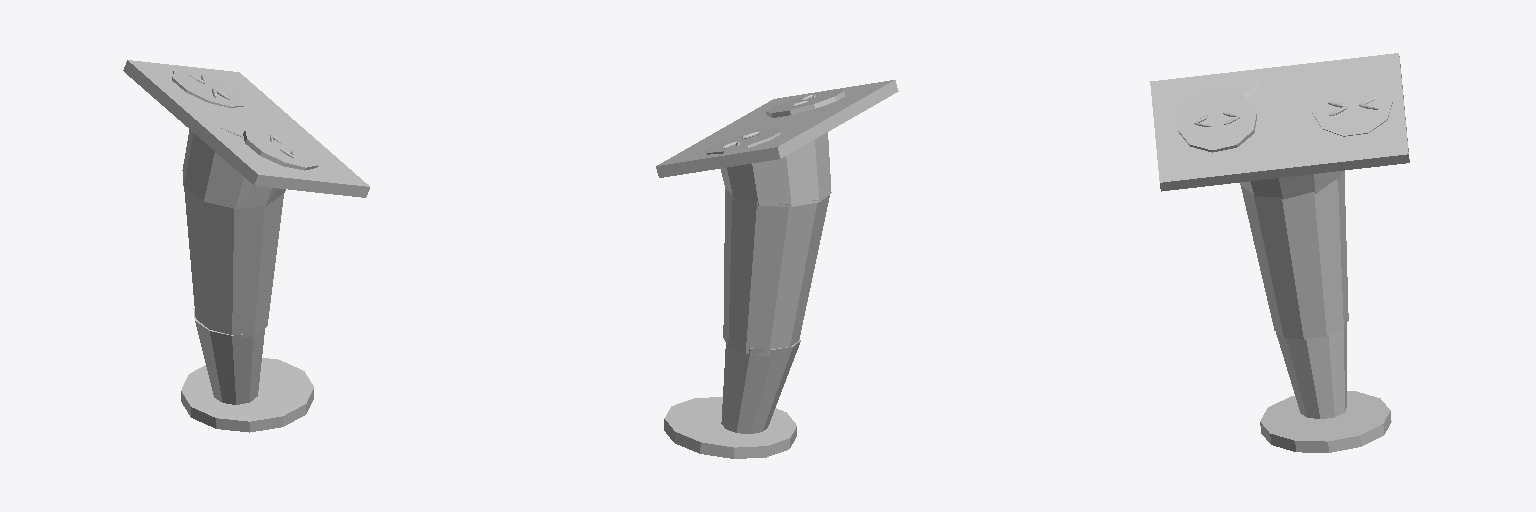
File: Buttons.obj
3 renders of one model, left to right at view 1: azimuth 30°, elevation 25°; view 2: azimuth 150°, elevation 25°; view 3: azimuth 270°, elevation 25°, orthographic.
Parts seen in each view (by area): view 1: group[number redacted], group[number redacted], group[number redacted]; view 2: group[number redacted], group[number redacted], group[number redacted]; view 3: group[number redacted], group[number redacted], group[number redacted].
Boxes of the visible parts, <box> form: group[number redacted]: <box>123,60,369,432</box>; group[number redacted]: <box>243,127,317,170</box>; group[number redacted]: <box>172,69,245,107</box>; group[number redacted]: <box>656,80,898,458</box>; group[number redacted]: <box>766,90,844,117</box>; group[number redacted]: <box>704,129,780,154</box>; group[number redacted]: <box>1150,53,1409,452</box>; group[number redacted]: <box>1178,90,1256,152</box>; group[number redacted]: <box>1312,77,1392,136</box>.
Size of the model in its own units: 1.26 by 2.79 by 1.94.